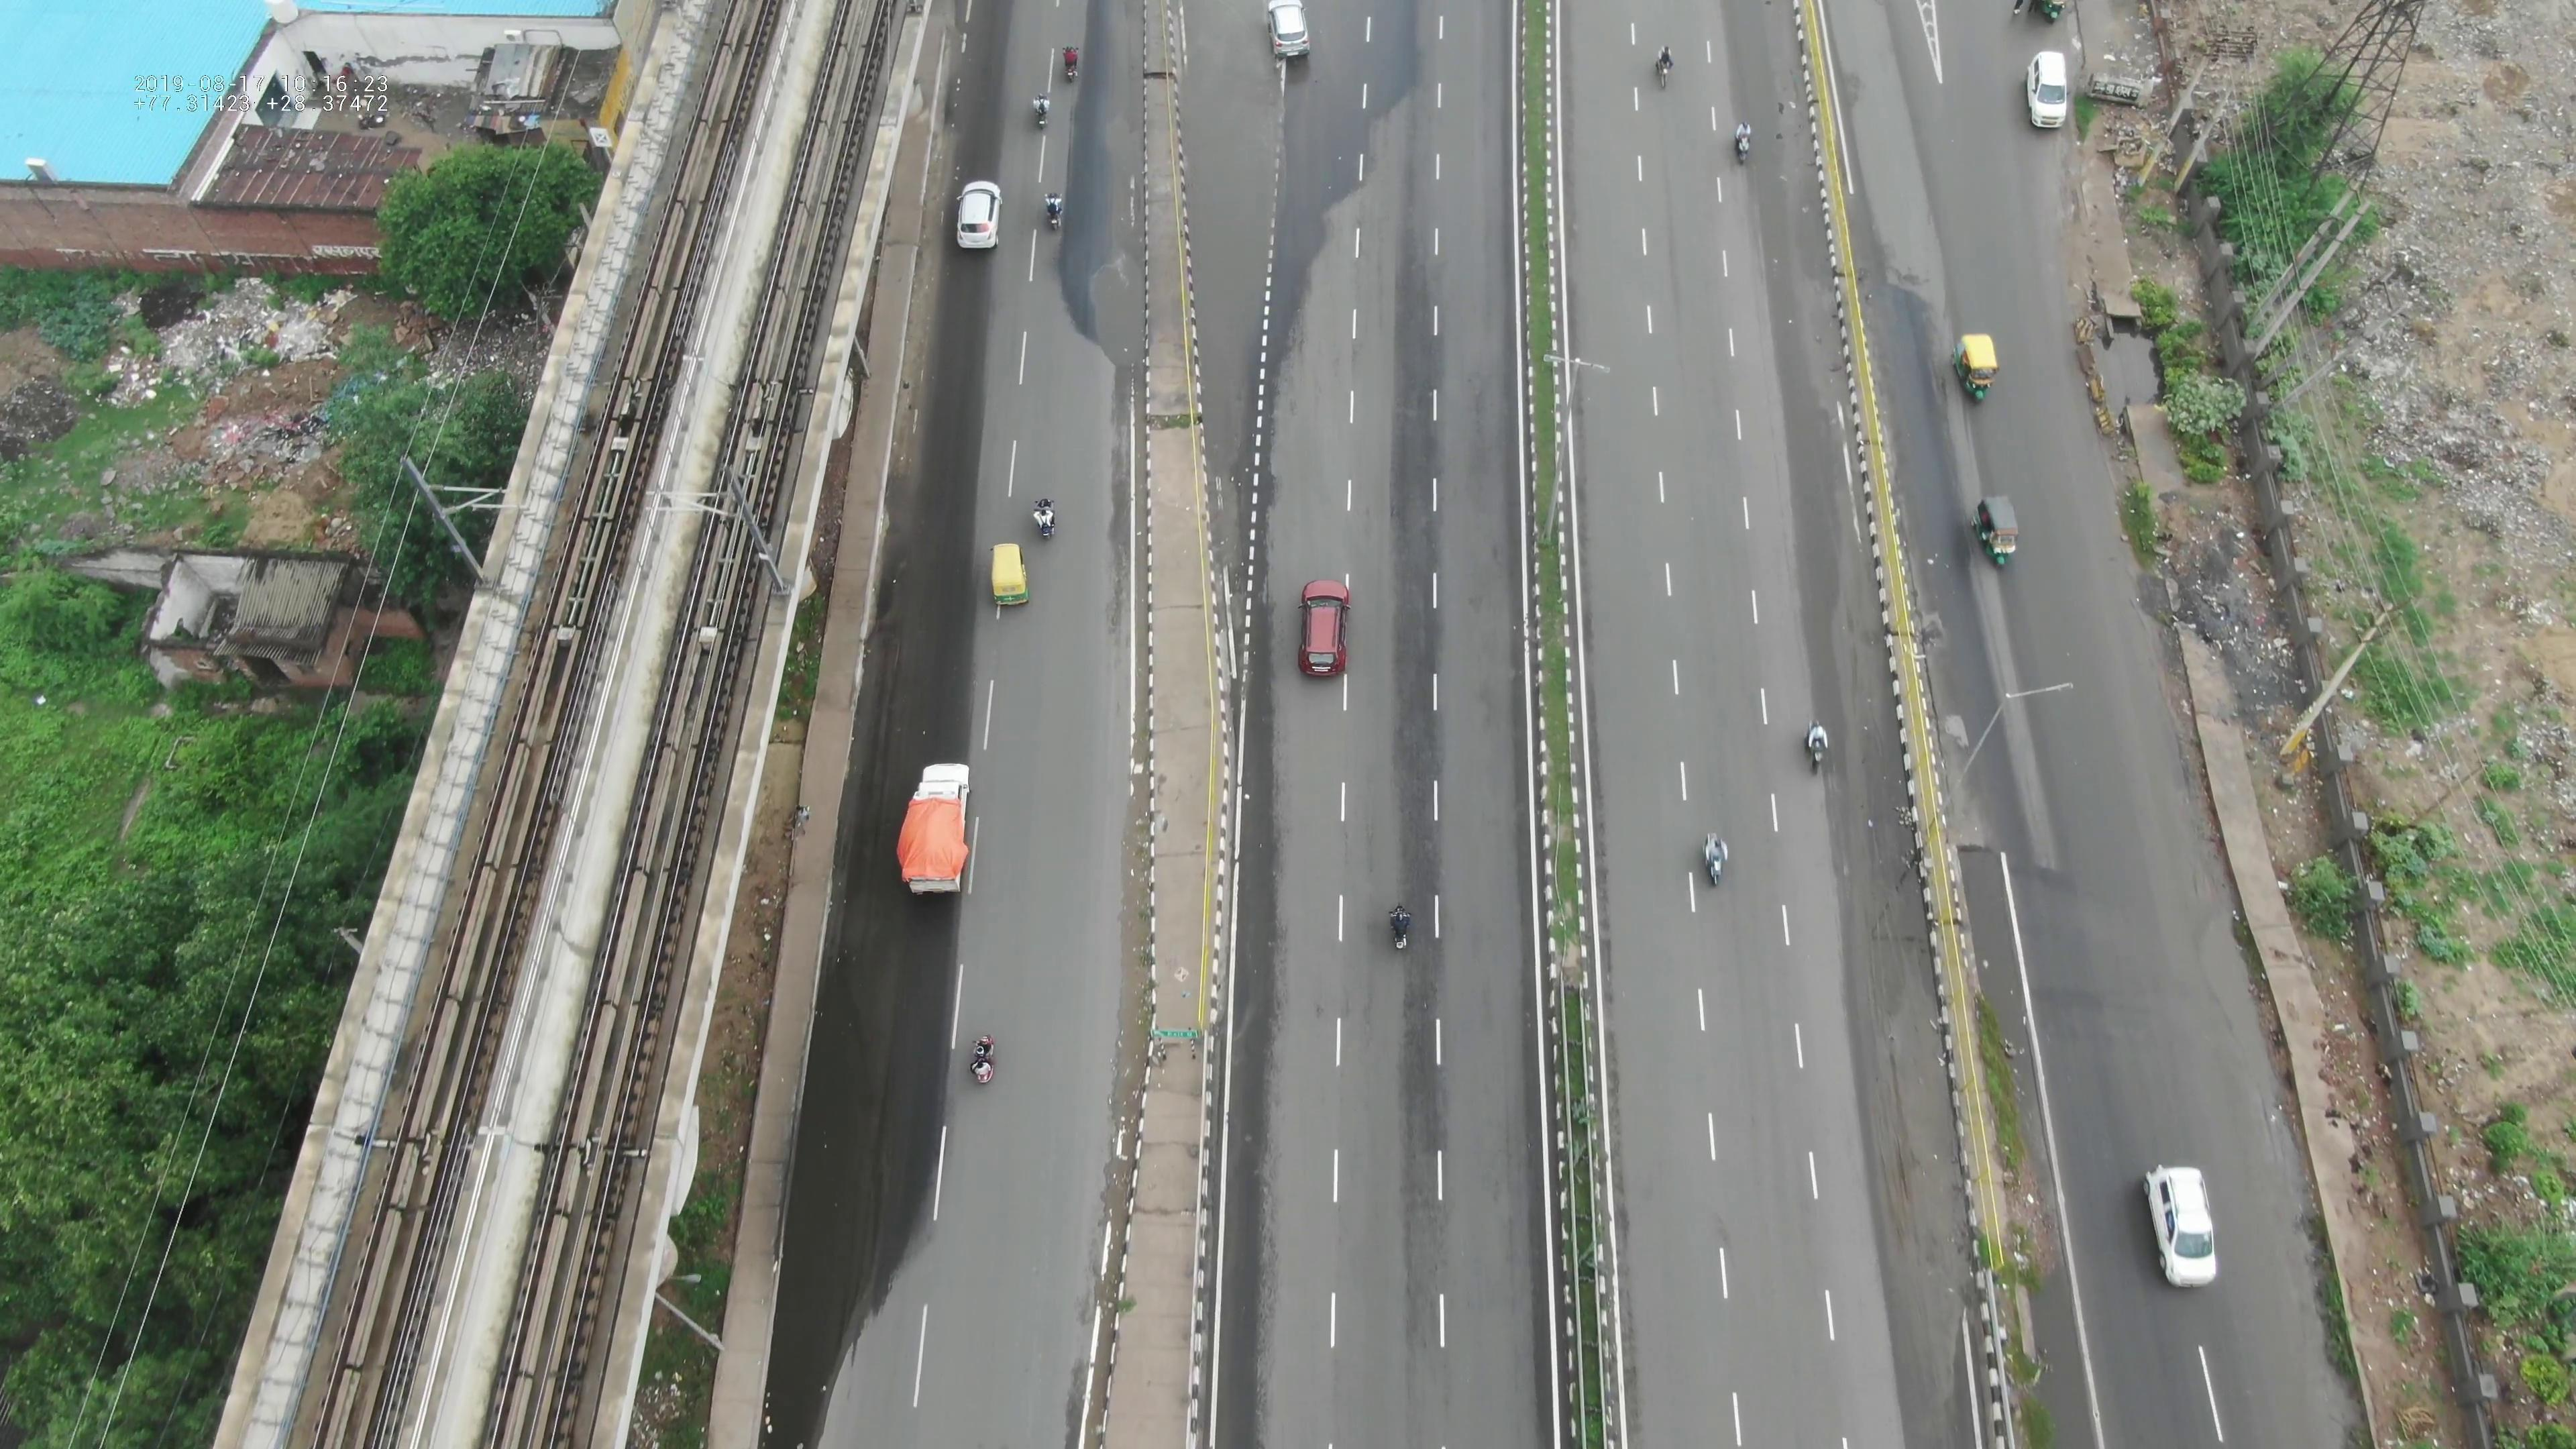Ravelling: (1371, 757, 1454, 1171), (1366, 356, 1442, 720)
